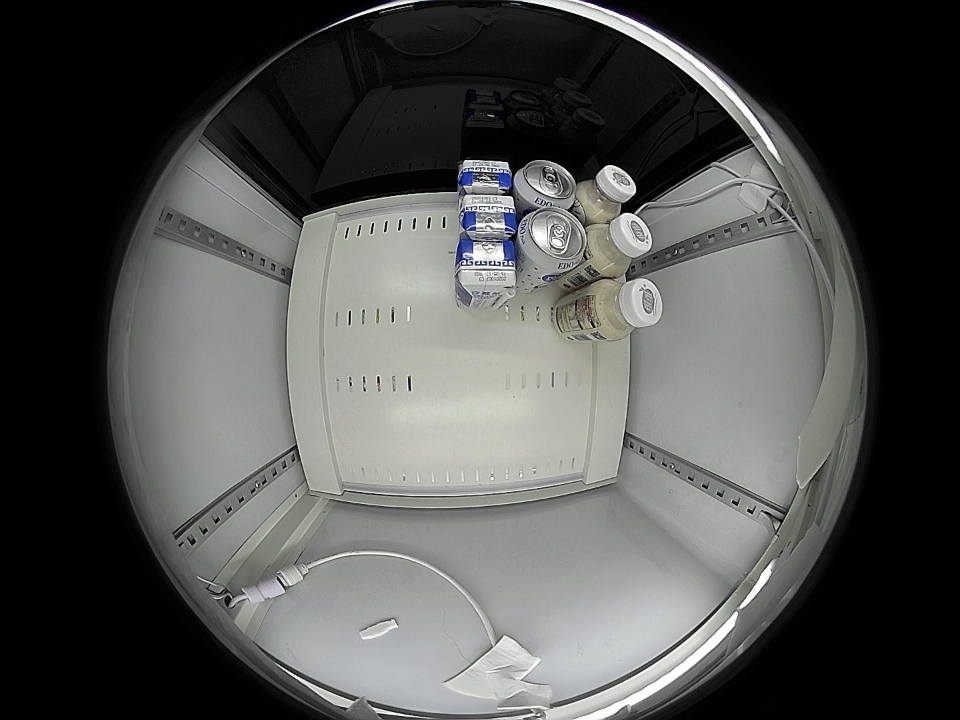anmuxi: (455, 238, 516, 302), (458, 192, 516, 240), (456, 160, 514, 195)
rusuanjunqishui: (516, 209, 586, 276), (514, 160, 576, 211)
weiweidounai: (589, 278, 664, 341), (585, 212, 654, 277), (575, 165, 637, 221)
